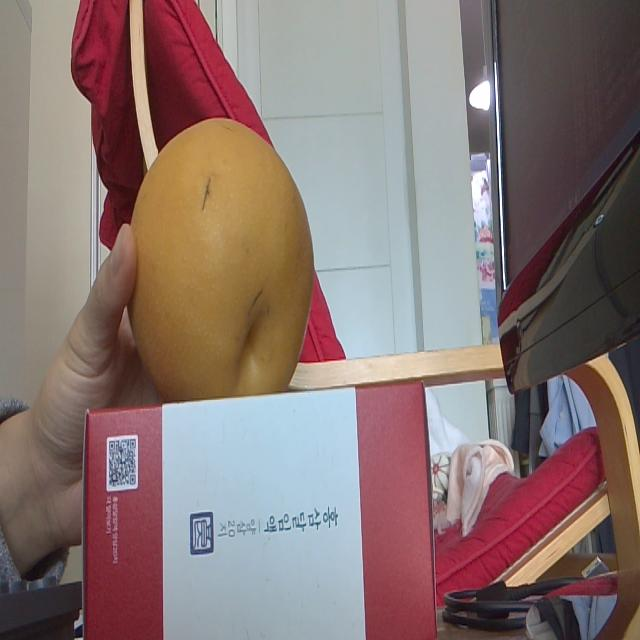pear: (128, 119, 314, 395)
